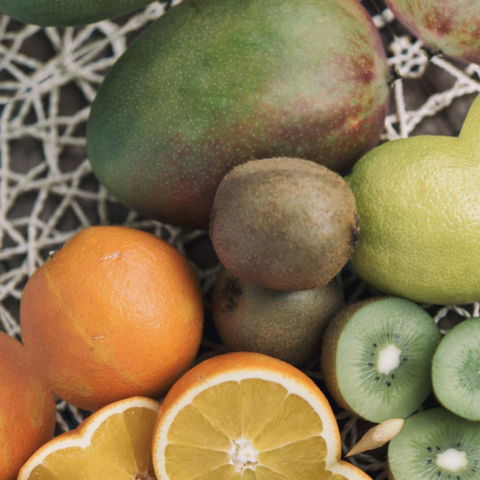kiwi: (10, 0, 440, 300), (180, 117, 385, 326)
orange: (0, 183, 241, 438)
